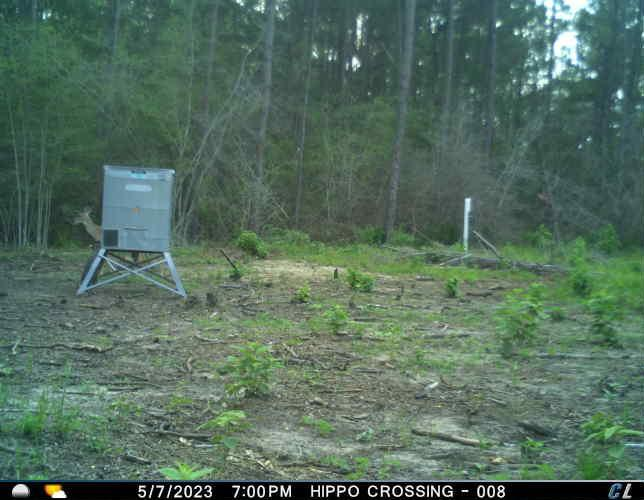Deer: (67, 202, 102, 245)
